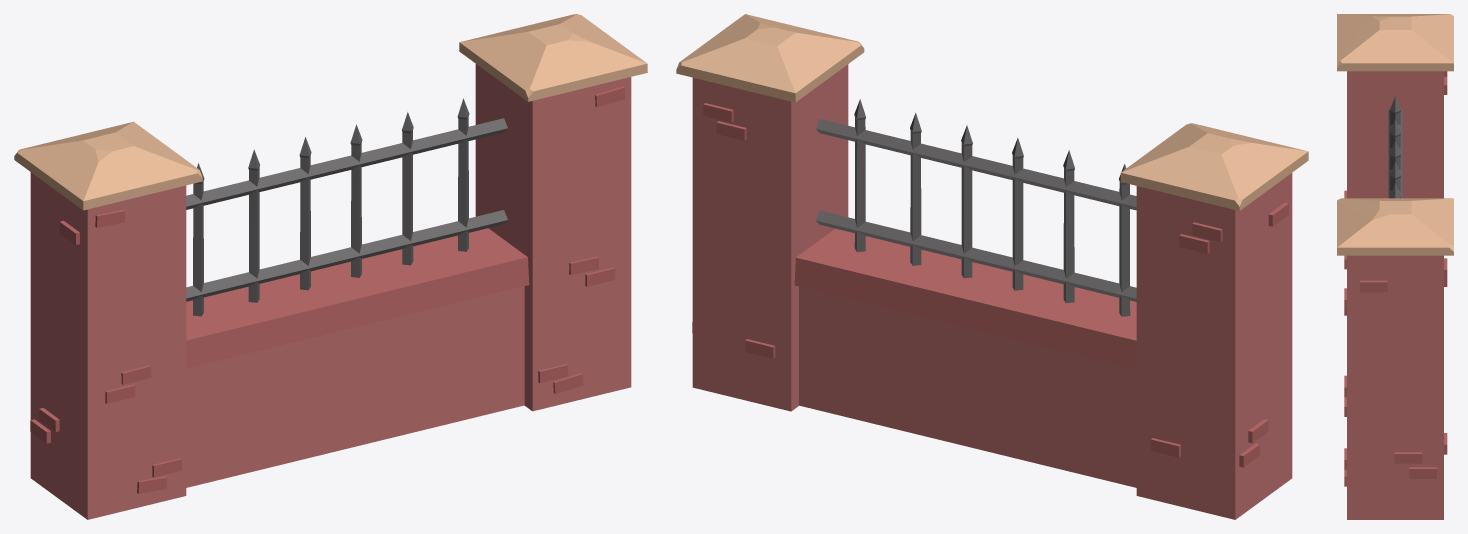
The model's file is fence-end.glb.
The picture shows the model from 3 angles, left to right: view 1: azimuth 30°, elevation 25°; view 2: azimuth 150°, elevation 25°; view 3: azimuth 270°, elevation 25°; orthographic projection. The views are drawn at different scales.
Parts seen in each view (by area): view 1: FenceEnd; view 2: FenceEnd; view 3: FenceEnd.
Boxes of the visible parts, <box> form: FenceEnd: <box>14,14,647,519</box>; FenceEnd: <box>676,14,1308,519</box>; FenceEnd: <box>1337,14,1453,519</box>.
Bounding box in the file's own units: 1.35 × 0.7876 × 0.2859.
Materials: 1 (1 with a texture image).
